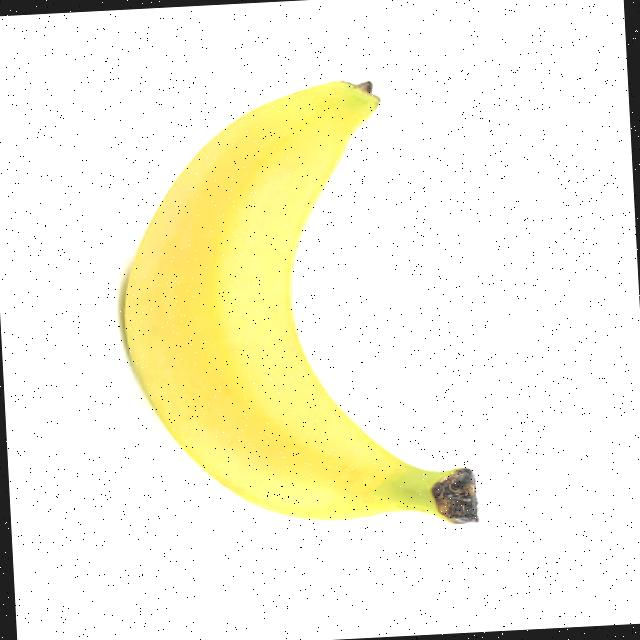banana: (107, 74, 482, 545)
